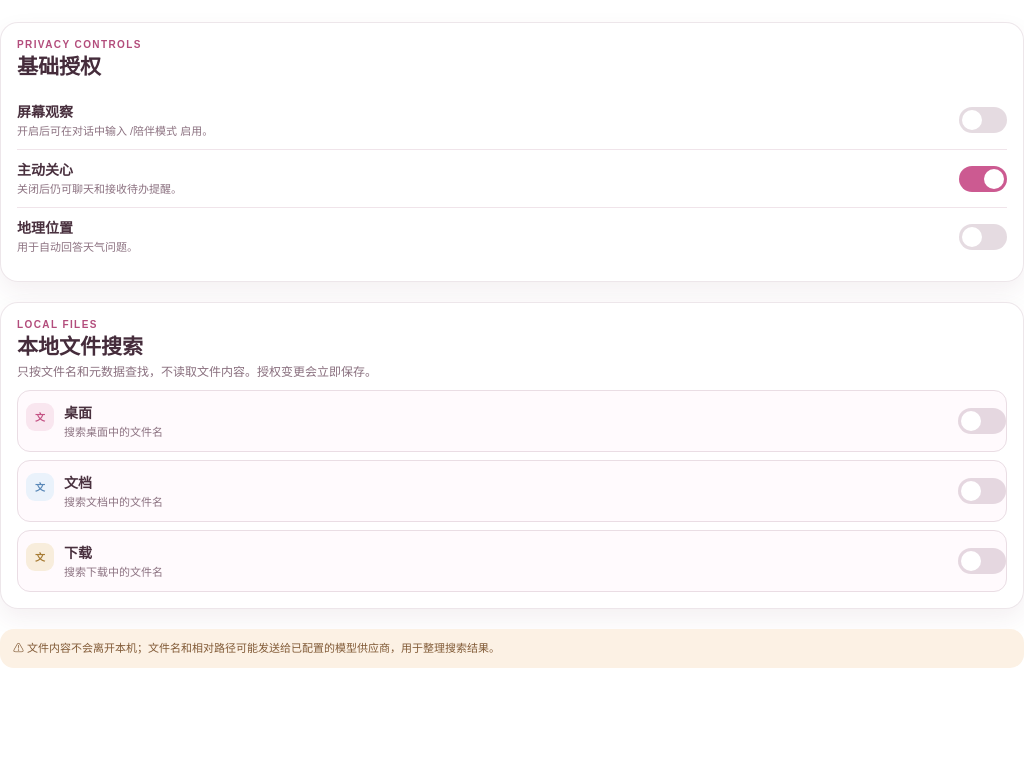
Test: PrivacySettings › rolls a permission switch back when immediate persistence fails
The width and height of the screenshot is (1024, 768).
Click the checkbox named "搜索文档文件". click: (982, 491)
box: left=958, top=478, right=1006, bottom=504
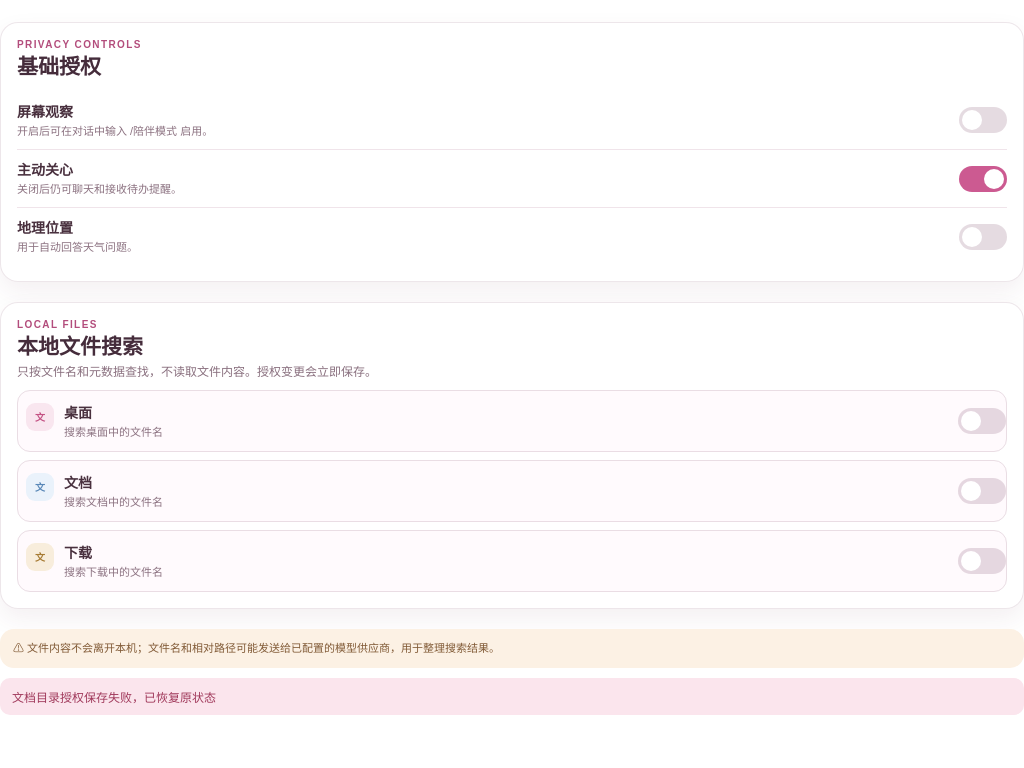
Expected: the text "文档目录授权保存失败，已恢复原状态" is shown, left=0, top=678, right=1023, bottom=715
